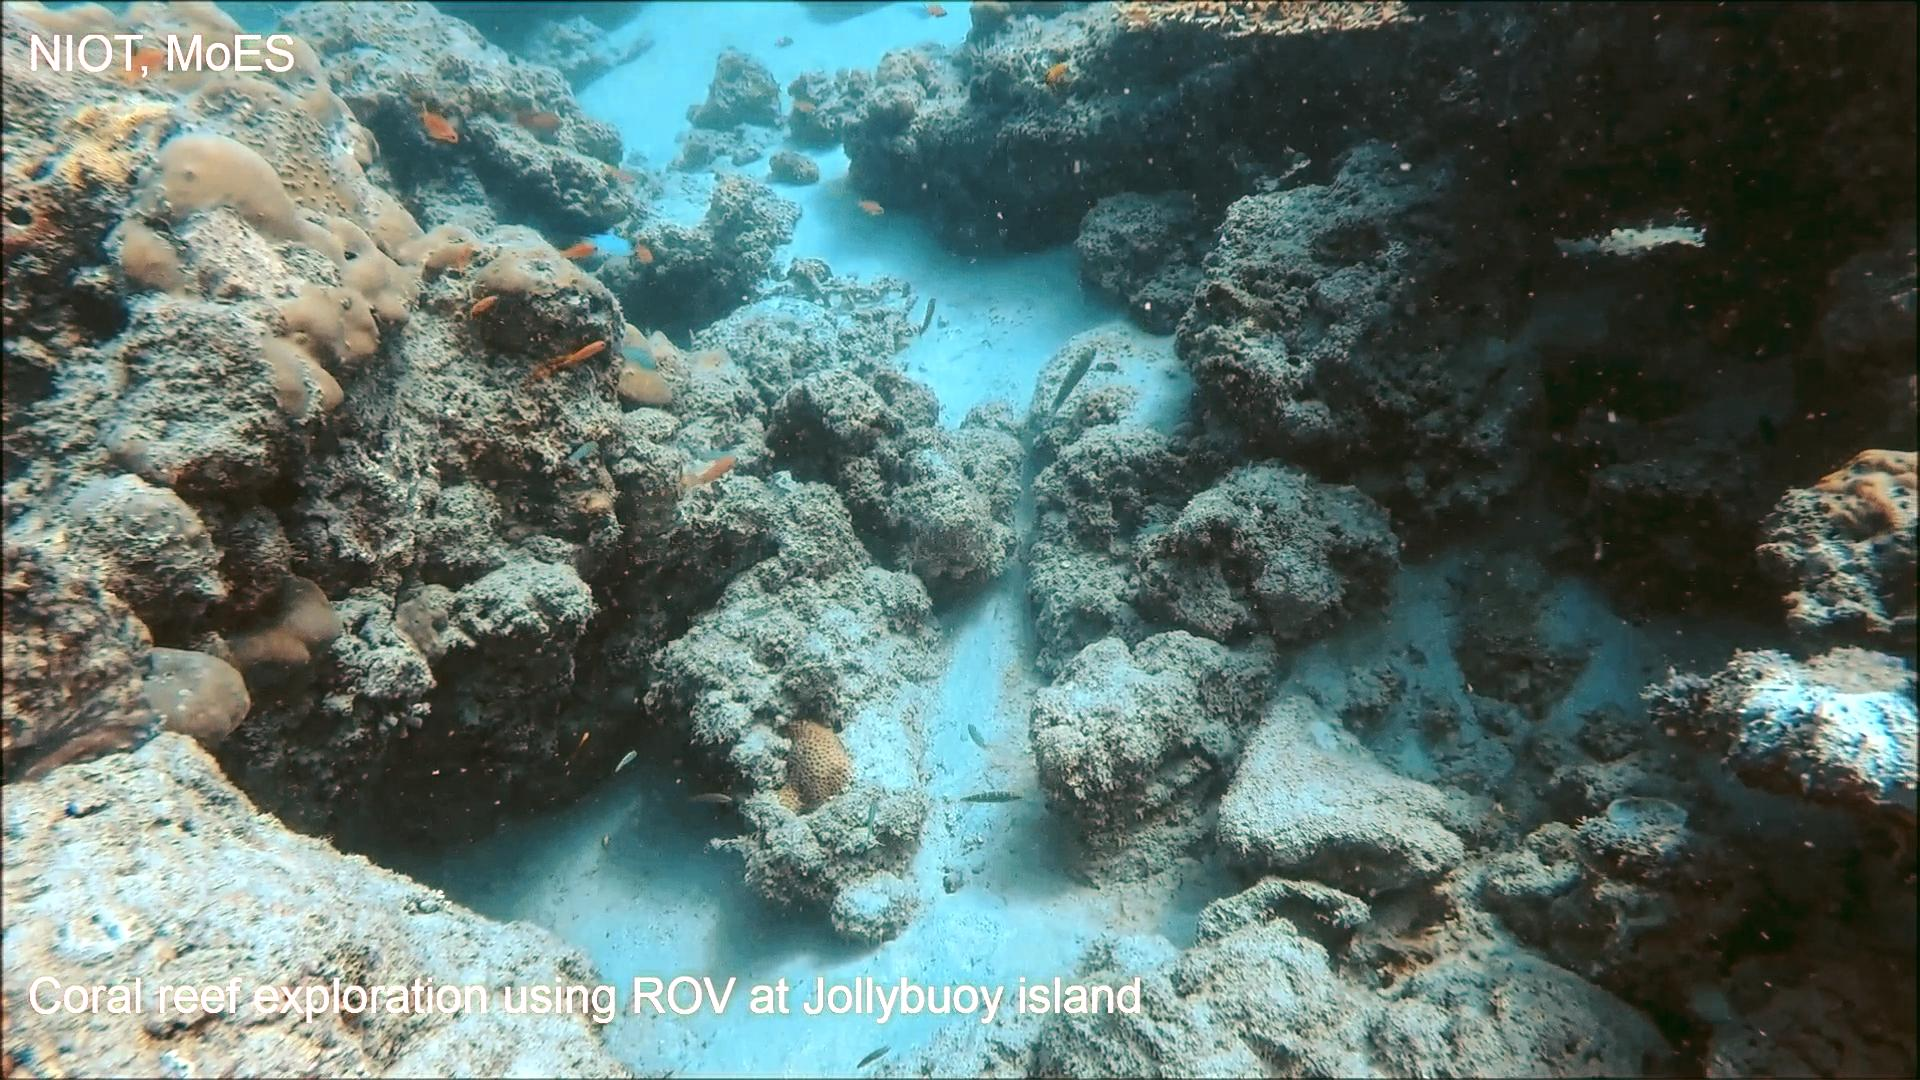Porites-Porites pukoensis: (0, 0, 487, 430)
